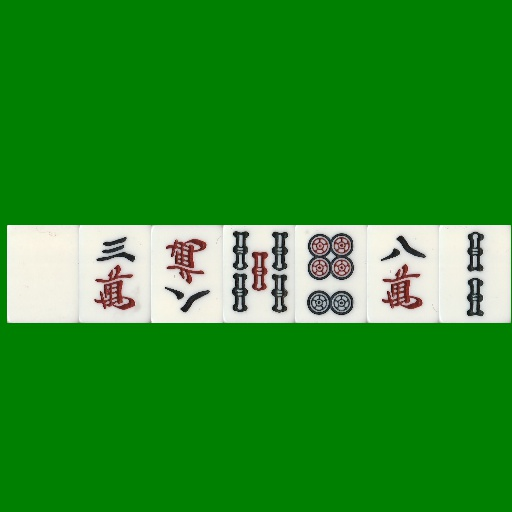2s: (439, 225, 511, 323)
3m: (79, 225, 151, 323)
5s: (223, 225, 295, 323)
6p: (295, 225, 367, 323)
8m: (151, 225, 223, 323), (367, 225, 439, 323)
white: (7, 225, 79, 323)
